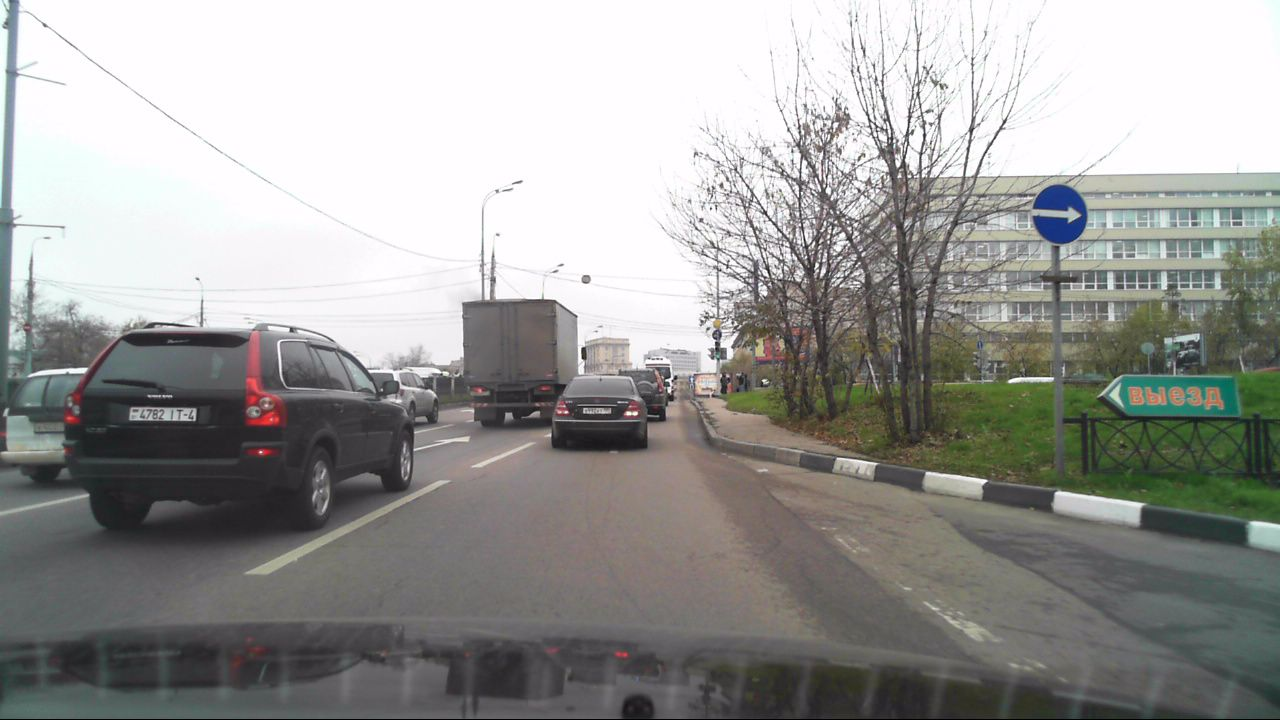Turn Right: (1031, 183, 1088, 245)
